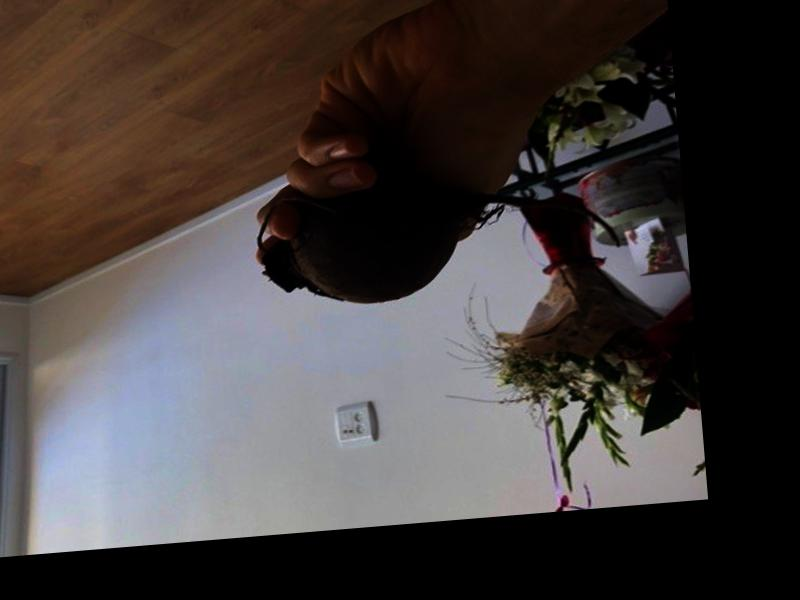Beet: (253, 158, 622, 311)
